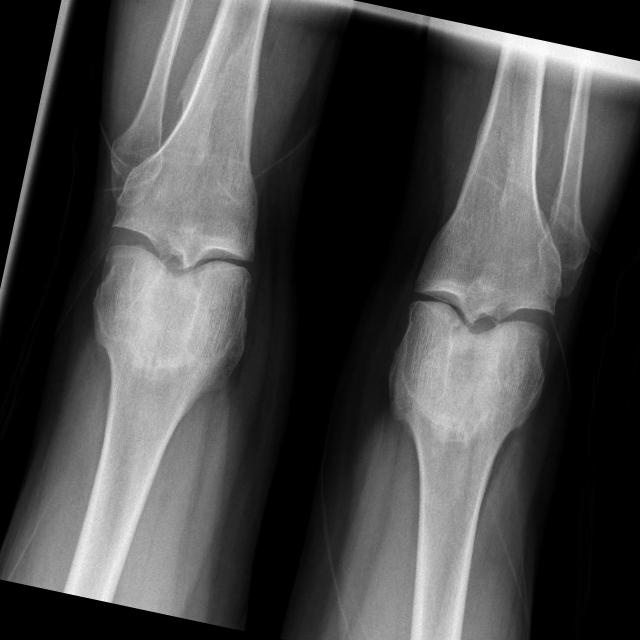Knee: (80, 176, 274, 353), (389, 228, 569, 400)
